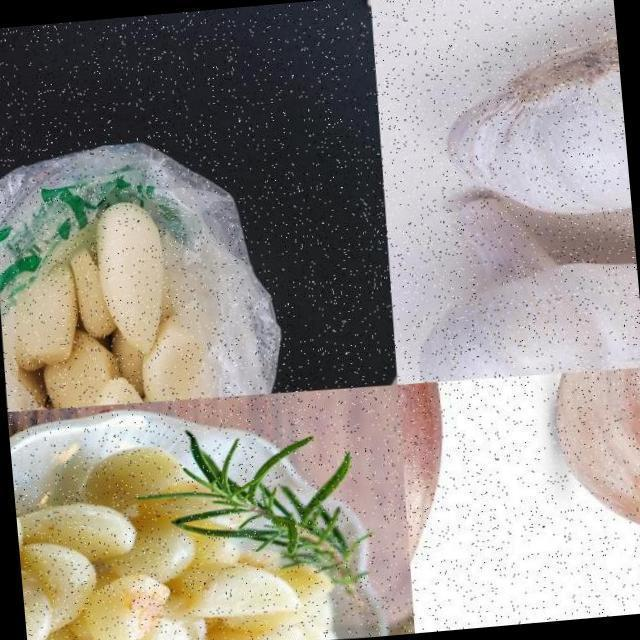garlic: (11, 429, 347, 640), (431, 24, 638, 305), (399, 183, 640, 386), (1, 195, 220, 414), (539, 365, 640, 564)
